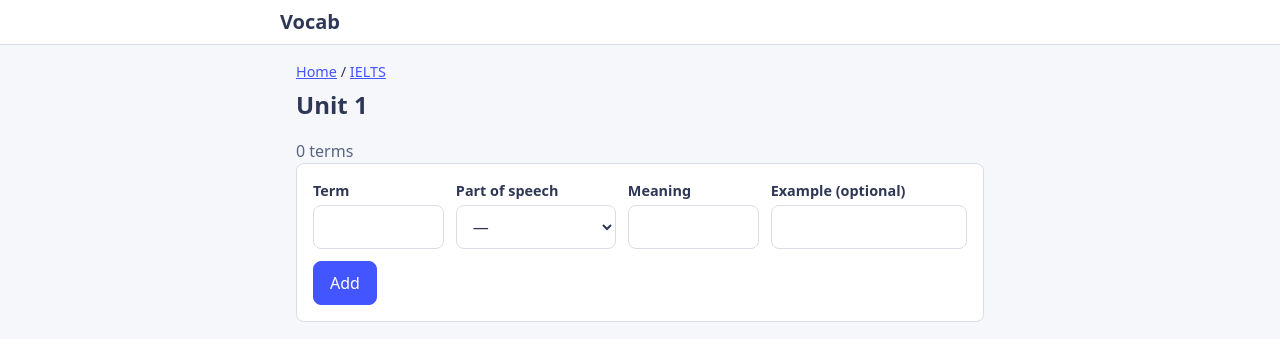
Test: writes after another tab deleted the page › shows "no longer exists" instead of a form that keeps failing
expect the heading "Unit 1" is shown: met, box [296,88,368,121]
Type "run" into the field labelled "Term" at (378, 227), box [313,205,444,249]
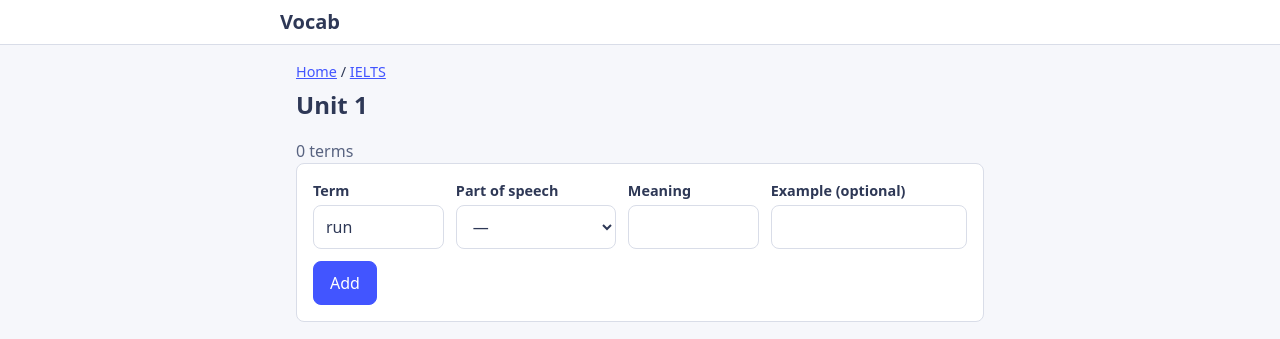
Type "chạy" into the field labelled "Meaning" at (693, 227), box [628,205,759,249]
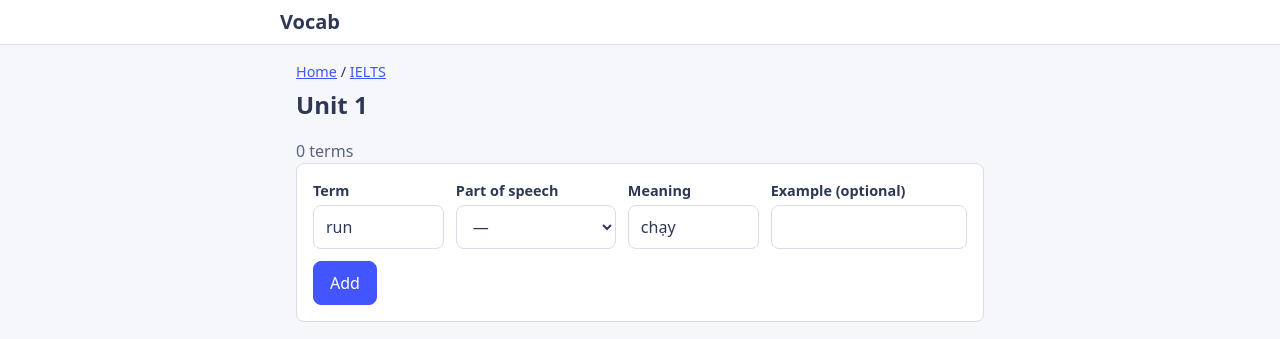
Click the button "Add" at (345, 283), box [313,261,377,305]
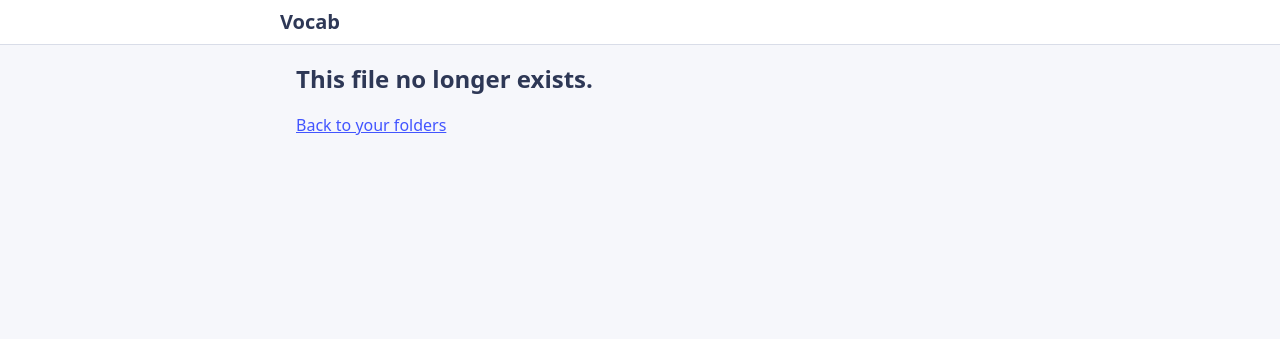
expect the heading "This file no longer exists." is shown: met, box [296,62,593,95]
expect the link "Back to your folders" is shown: met, box [296,114,446,136]
